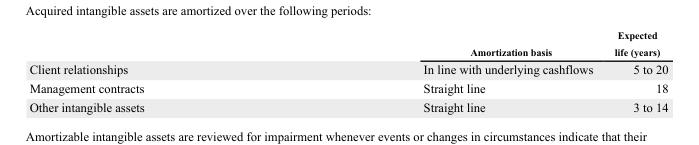table: (28, 29, 667, 113)
table column: (283, 29, 603, 113), (28, 29, 283, 113), (603, 29, 667, 113)
table column header: (28, 29, 667, 59)
table row: (28, 29, 667, 59), (28, 59, 667, 78), (28, 78, 667, 97), (28, 97, 667, 113)
